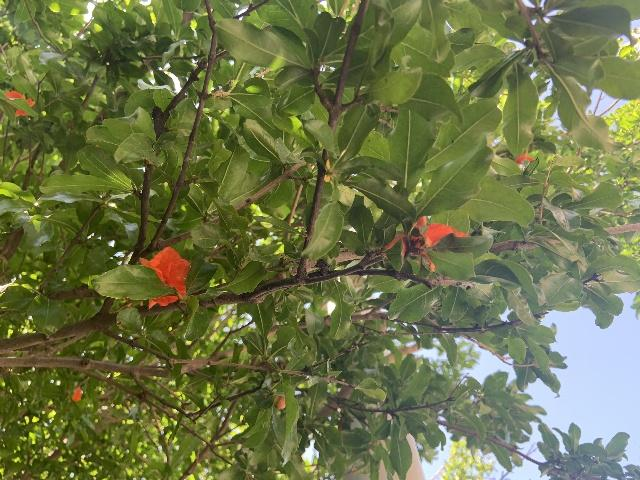bud: (273, 396, 285, 409)
flower: (382, 214, 470, 271), (139, 246, 190, 306), (4, 90, 34, 117), (515, 150, 534, 169)
